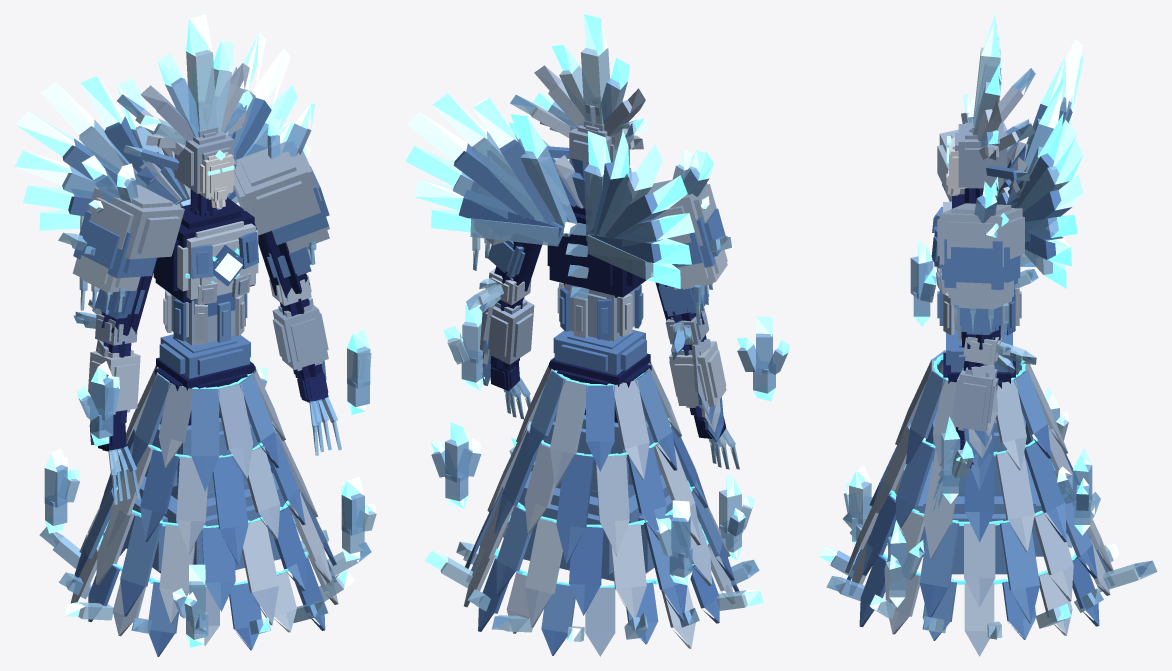
The picture shows the model from 3 angles, left to right: view 1: azimuth 30°, elevation 25°; view 2: azimuth 150°, elevation 25°; view 3: azimuth 270°, elevation 25°; orthographic projection. The views are drawn at different scales.
Parts seen in each view (by area): view 1: FrostMatriarch; view 2: FrostMatriarch; view 3: FrostMatriarch.
Boxes of the visible parts, box(x1,y1,x2,y2) form: FrostMatriarch: box(14, 14, 376, 656); FrostMatriarch: box(405, 14, 789, 656); FrostMatriarch: box(819, 14, 1157, 656).
Bounding box in the file's own units: 1.24 × 2.18 × 1.15.
